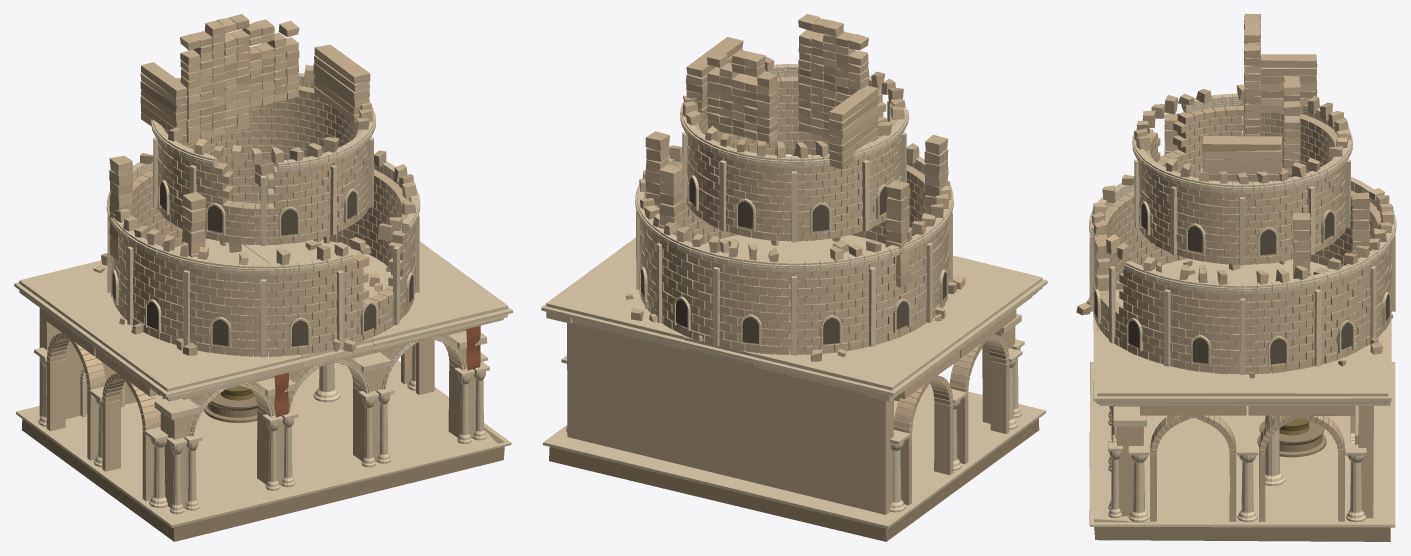
The model's file is temple.glb.
The picture shows the model from 3 angles, left to right: view 1: azimuth 30°, elevation 25°; view 2: azimuth 150°, elevation 25°; view 3: azimuth 270°, elevation 25°; orthographic projection. The views are drawn at different scales.
Parts seen in each view (by area): view 1: temple_stone, temple_trim, temple_darkstone, temple_deep, temple_cloth; view 2: temple_stone, temple_trim, temple_darkstone, temple_deep; view 3: temple_stone, temple_trim, temple_darkstone, temple_deep, temple_bronze.
Boxes of the visible parts, x1=… form: temple_stone: x1=39, y1=14, x2=480, y2=508; temple_trim: x1=14, y1=73, x2=512, y2=527; temple_darkstone: x1=22, y1=393, x2=504, y2=541; temple_deep: x1=112, y1=182, x2=413, y2=346; temple_cloth: x1=274, y1=325, x2=480, y2=417; temple_stone: x1=567, y1=14, x2=1016, y2=514; temple_trim: x1=541, y1=64, x2=1047, y2=528; temple_darkstone: x1=549, y1=418, x2=1039, y2=541; temple_deep: x1=641, y1=178, x2=946, y2=344; temple_stone: x1=1076, y1=14, x2=1394, y2=521; temple_trim: x1=1089, y1=93, x2=1396, y2=527; temple_darkstone: x1=1094, y1=420, x2=1390, y2=541; temple_deep: x1=1094, y1=203, x2=1389, y2=364; temple_bronze: x1=1112, y1=406, x2=1310, y2=439.
Bounding box in the file's own units: 39.83 × 47.1 × 32.46.
